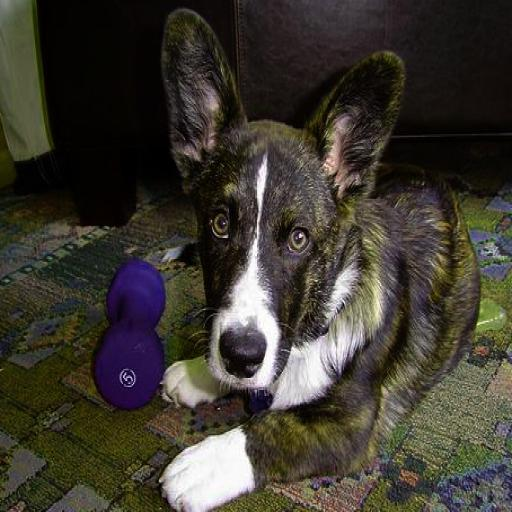dog_face: (160, 18, 402, 396)
